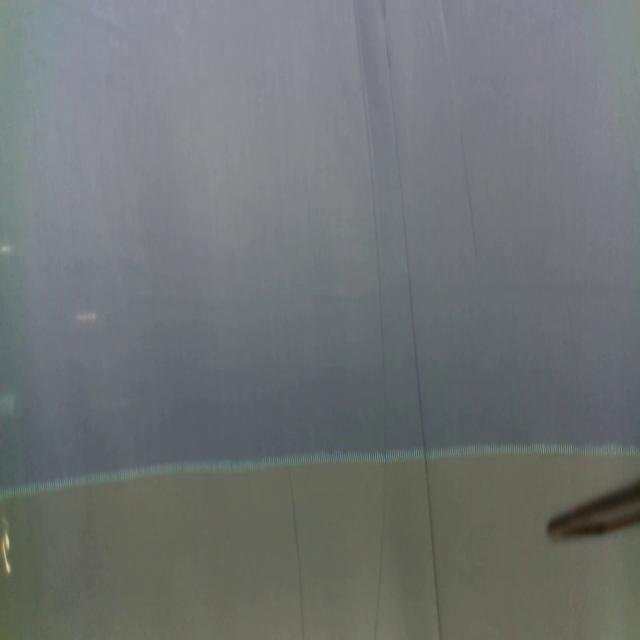crease: (386, 0, 440, 640), (351, 0, 389, 640), (288, 468, 305, 639), (463, 156, 484, 287)
